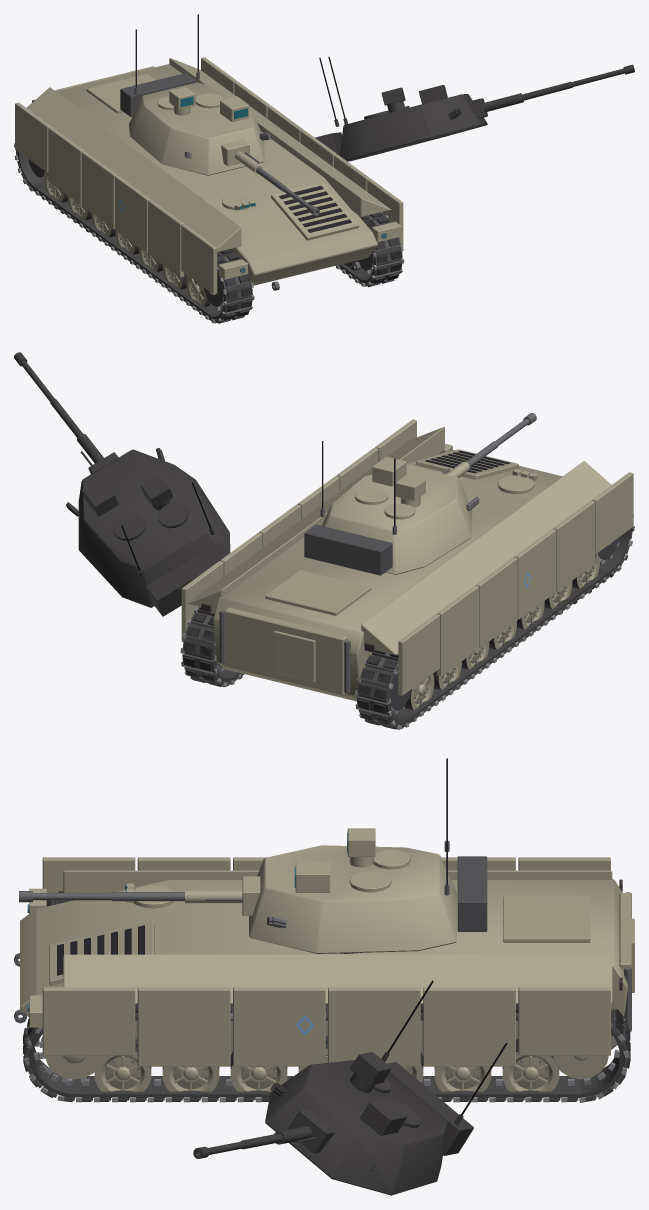
Rendered from ifv__cv9035nl.glb.
3 views of the same model, one above another, from view 1: azimuth 30°, elevation 25°; view 2: azimuth 150°, elevation 25°; view 3: azimuth 270°, elevation 25° (orthographic). The views are drawn at different scales.
Parts seen in each view (by area): view 1: Hull_Mesh, Turret_Mesh, Wreck, Track_L_Mesh, Track_R_Mesh, Gun_Mesh; view 2: Hull_Mesh, Wreck, Turret_Mesh, Track_L_Mesh, Track_R_Mesh, Gun_Mesh, Wheel_L0_Mesh; view 3: Hull_Mesh, Turret_Mesh, Wreck, Track_R_Mesh, Gun_Mesh, Wheel_R0_Mesh, Wheel_R6_Mesh, Wheel_R5_Mesh, Wheel_R1_Mesh, Wheel_R4_Mesh, Sprocket_R_Mesh, Idler_R_Mesh.
Boxes of the visible parts, <box> form: Hull_Mesh: <box>15,57,403,294</box>; Turret_Mesh: <box>120,14,270,175</box>; Wreck: <box>15,56,634,323</box>; Track_L_Mesh: <box>14,143,254,323</box>; Track_R_Mesh: <box>335,212,404,287</box>; Gun_Mesh: <box>221,139,319,216</box>; Hull_Mesh: <box>181,419,633,701</box>; Wreck: <box>14,352,634,727</box>; Turret_Mesh: <box>304,441,479,575</box>; Track_L_Mesh: <box>354,515,634,729</box>; Track_R_Mesh: <box>180,607,244,686</box>; Gun_Mesh: <box>442,413,536,477</box>; Wheel_L0_Mesh: <box>404,673,434,710</box>; Hull_Mesh: <box>14,857,634,1066</box>; Turret_Mesh: <box>249,758,487,953</box>; Wreck: <box>23,900,629,1195</box>; Track_R_Mesh: <box>23,1004,630,1102</box>; Gun_Mesh: <box>19,876,260,915</box>; Wheel_R0_Mesh: <box>502,1039,559,1099</box>; Wheel_R6_Mesh: <box>94,1038,151,1099</box>; Wheel_R5_Mesh: <box>162,1066,219,1099</box>; Wheel_R1_Mesh: <box>434,1066,491,1098</box>; Wheel_R4_Mesh: <box>230,1052,287,1099</box>; Sprocket_R_Mesh: <box>39,1037,103,1082</box>; Idler_R_Mesh: <box>553,1055,608,1079</box>.
Size of what is drawn, in the model's own units: 9.04 by 3.31 by 7.13.
